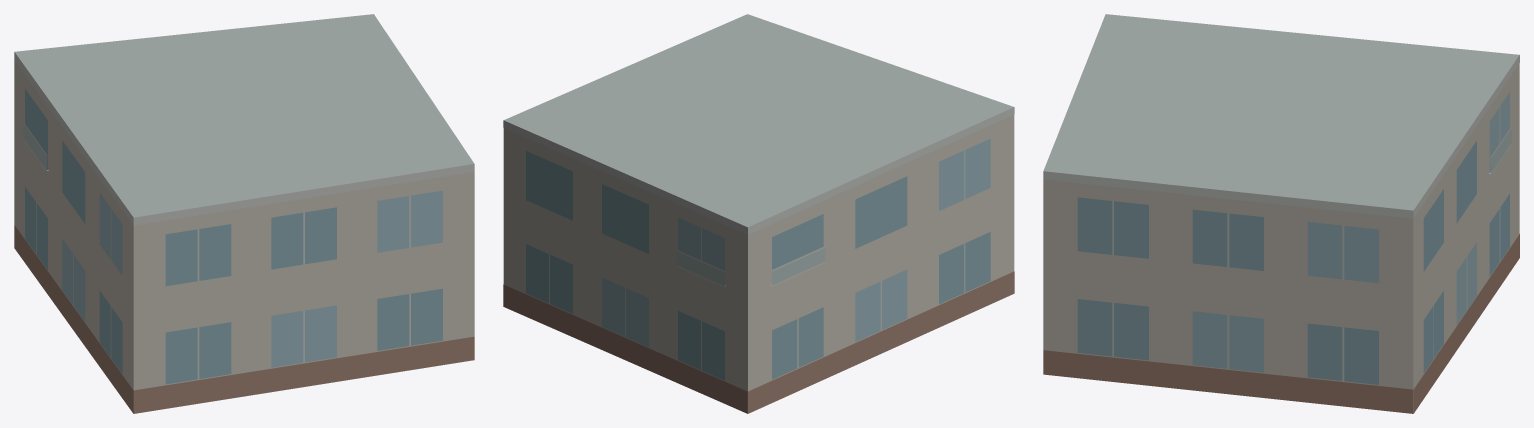
File: survey-upis-32665392.glb
The picture shows the model from 3 angles, left to right: view 1: azimuth 30°, elevation 25°; view 2: azimuth 150°, elevation 25°; view 3: azimuth 270°, elevation 25°; orthographic projection. The views are drawn at different scales.
Parts seen in each view (by area): view 1: survey-upis-32665392.tmp; view 2: survey-upis-32665392.tmp; view 3: survey-upis-32665392.tmp.
Boxes of the visible parts, box(x1,y1,x2,y2) form: survey-upis-32665392.tmp: box(14, 14, 474, 413); survey-upis-32665392.tmp: box(503, 14, 1014, 413); survey-upis-32665392.tmp: box(1043, 14, 1519, 413).
Size of the model in its own units: 12.66 by 6.1 by 12.97.
